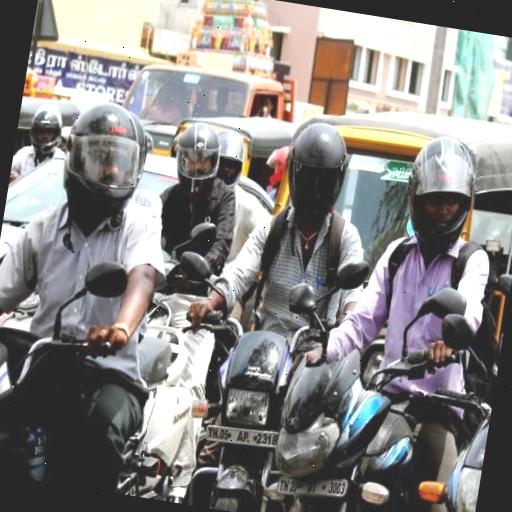helmet: (0, 70, 167, 458), (97, 102, 270, 472), (338, 104, 495, 314), (258, 80, 364, 251)
